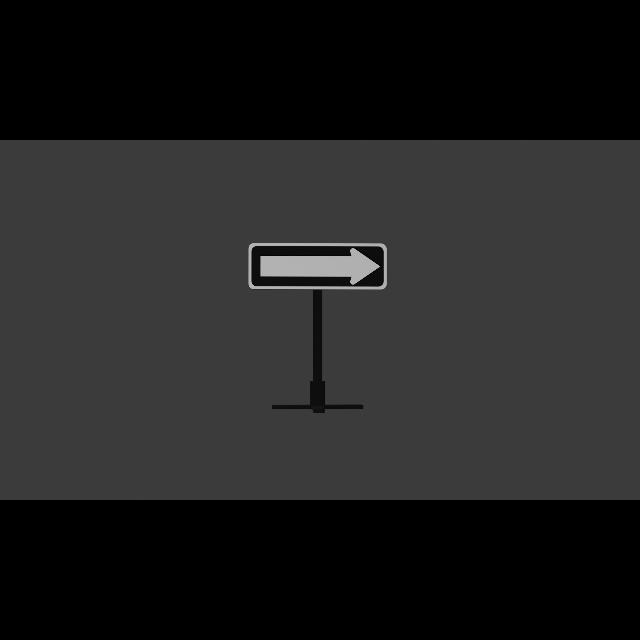sign_oneway_right: (250, 244, 386, 291)
